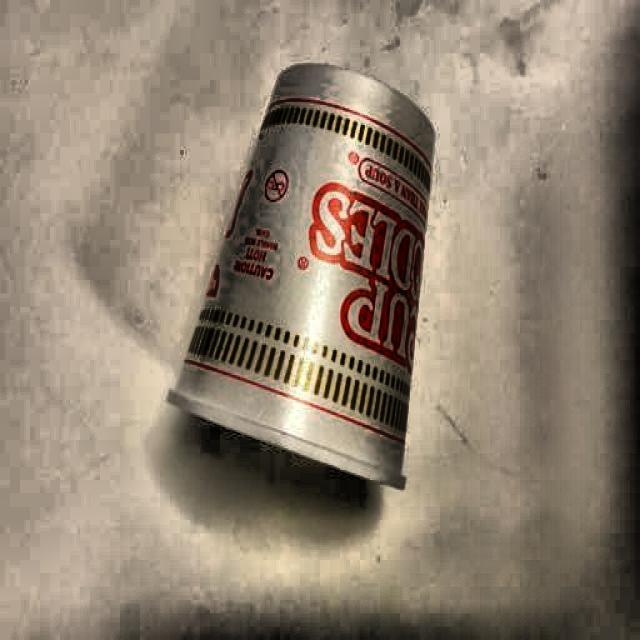trash: (163, 61, 449, 495)
